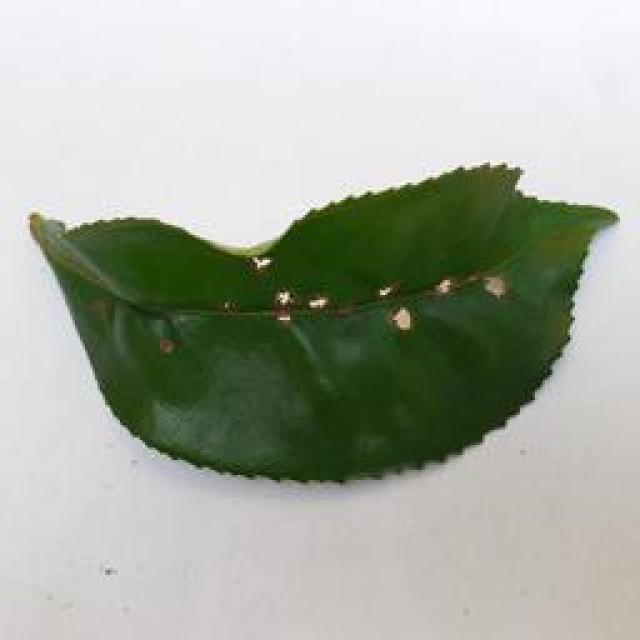Helopeltis: (14, 166, 640, 493)
